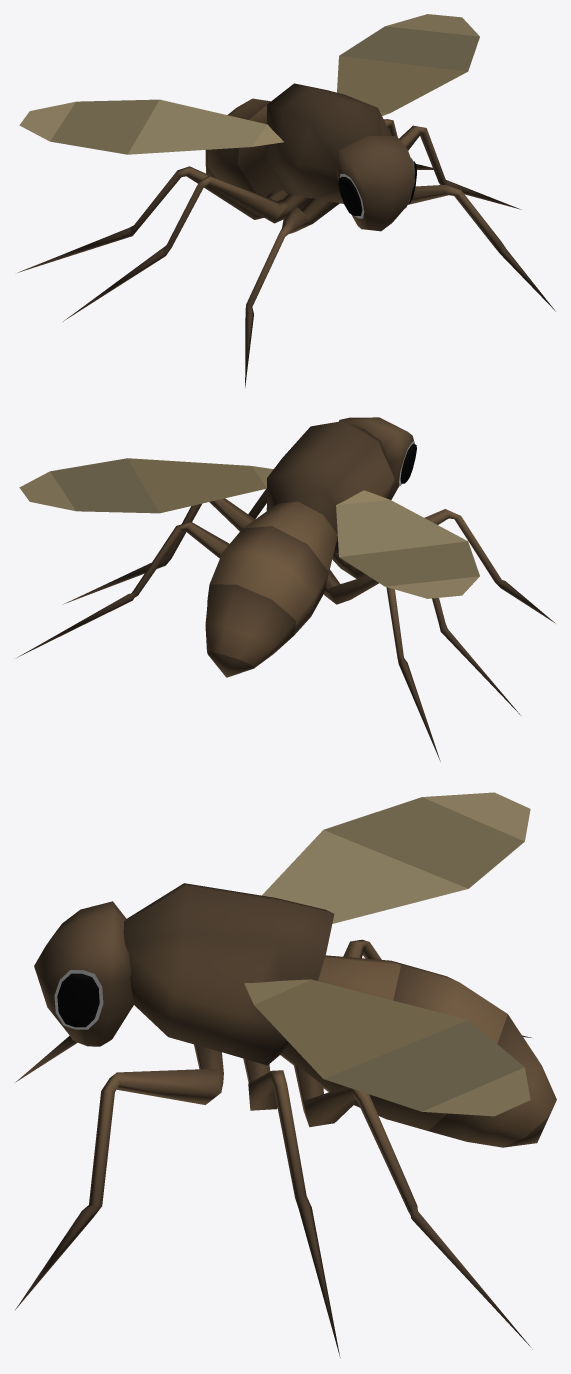
Rendered from FlyingInsects_DrosophilaMelanogaster.fbx.
3 renders of one model, top to bottom at view 1: azimuth 30°, elevation 25°; view 2: azimuth 150°, elevation 25°; view 3: azimuth 270°, elevation 25°, orthographic. The views are drawn at different scales.
Parts seen in each view (by area): view 1: base; view 2: base; view 3: base.
Part boxes in pixels (<box>): base: <box>17,14,555,387</box>; base: <box>17,417,555,761</box>; base: <box>15,792,556,1357</box>.
Bounding box in the file's own units: 10.33 × 4.44 × 7.01.
